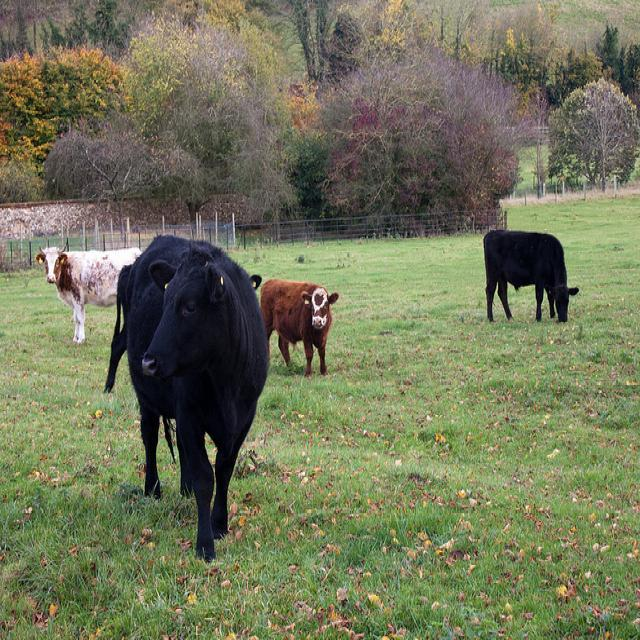cow: (123, 233, 265, 561), (34, 244, 140, 344), (482, 226, 578, 322), (258, 277, 338, 376)
